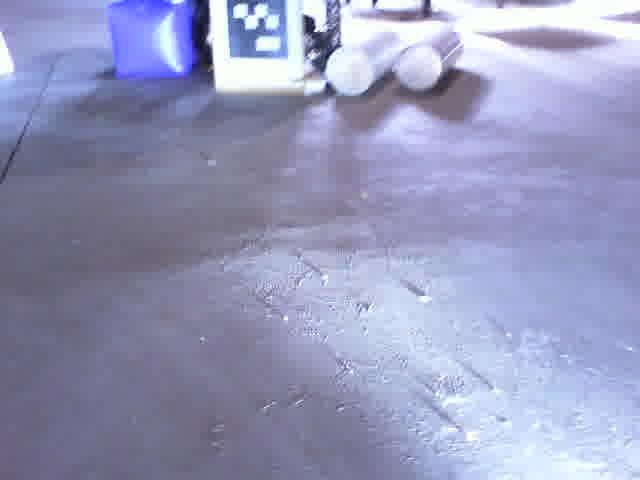coral: (321, 26, 407, 102), (394, 25, 466, 96)
